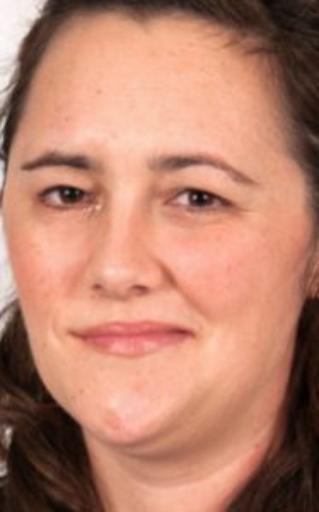left_eye: (160, 187, 235, 219)
left_lip_corner: (180, 323, 200, 345)
right_eye: (34, 186, 97, 215)
right_lip_corner: (64, 324, 82, 344)
